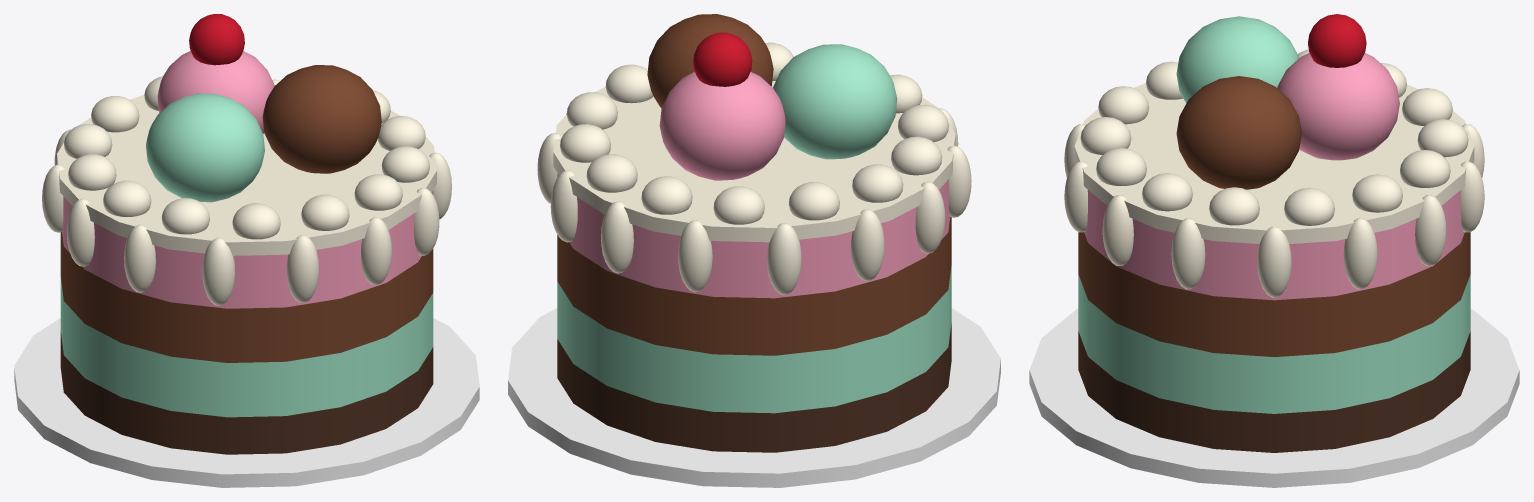
Rendered from Ice_L9.fbx.
3 renders of one model, left to right at view 1: azimuth 30°, elevation 25°; view 2: azimuth 150°, elevation 25°; view 3: azimuth 270°, elevation 25°, orthographic. The views are drawn at different scales.
Parts seen in each view (by area): view 1: I9_Scoop (×3), I9_Plate, I9_Mint, I9_Choc, I9_Frost, I9_Dollop (×10), I9_Crust, I9_Pink, I9_Drip (×8), I9_Cherry; view 2: I9_Scoop (×3), I9_Plate, I9_Mint, I9_Choc, I9_Frost, I9_Dollop (×12), I9_Crust, I9_Pink, I9_Drip (×8), I9_Cherry; view 3: I9_Scoop (×3), I9_Plate, I9_Mint, I9_Choc, I9_Frost, I9_Dollop (×11), I9_Crust, I9_Pink, I9_Drip (×7), I9_Cherry.
Boxes of the visible parts, x1,y1,x2,y2 form: I9_Scoop (×3): [146, 51, 381, 202]; I9_Plate: [14, 318, 479, 487]; I9_Mint: [60, 277, 433, 417]; I9_Choc: [60, 232, 433, 362]; I9_Frost: [57, 95, 436, 255]; I9_Dollop (×10): [64, 96, 429, 239]; I9_Crust: [60, 331, 433, 454]; I9_Pink: [62, 190, 433, 308]; I9_Drip (×8): [42, 152, 451, 305]; I9_Cherry: [189, 14, 244, 65]; I9_Scoop (×3): [647, 14, 897, 180]; I9_Plate: [508, 308, 1000, 487]; I9_Mint: [557, 265, 951, 413]; I9_Choc: [557, 217, 951, 355]; I9_Frost: [553, 81, 955, 242]; I9_Dollop (×12): [560, 42, 948, 224]; I9_Crust: [557, 323, 951, 452]; I9_Pink: [557, 173, 950, 298]; I9_Drip (×8): [537, 133, 971, 295]; I9_Cherry: [693, 32, 752, 86]; I9_Scoop (×3): [1176, 16, 1399, 189]; I9_Plate: [1029, 309, 1519, 487]; I9_Mint: [1078, 274, 1470, 413]; I9_Choc: [1078, 232, 1470, 356]; I9_Frost: [1074, 83, 1474, 243]; I9_Dollop (×11): [1080, 61, 1468, 225]; I9_Crust: [1078, 331, 1470, 452]; I9_Pink: [1084, 190, 1464, 300]; I9_Drip (×7): [1064, 161, 1484, 297]; I9_Cherry: [1308, 14, 1366, 67].
Bounding box in the file's own units: 25 × 20.7 × 25.
